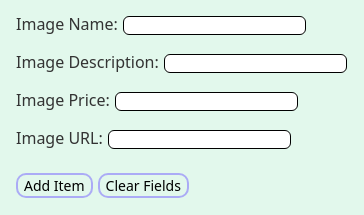
Scenario: should clear input fields when 'Clear Fields' button is clicked
The image size is (364, 215).
Type "Test Image" into the field labelled "Image Name:". click: {"x": 214, "y": 26}
box: [123,16,306,35]
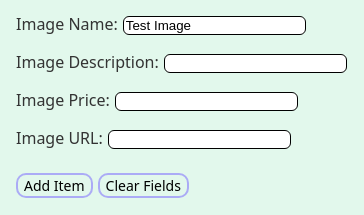
Type "This is a test image" into the field labelled "Image Description:". click: {"x": 255, "y": 64}
box: [164,54,347,73]
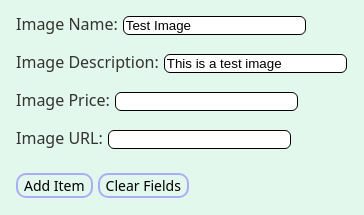
Type "10" into the field labelled "Image Price:". click: {"x": 206, "y": 102}
box: [115,92,298,111]
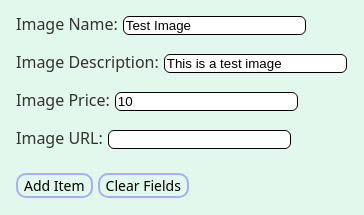
Type "http://example.com/test" into the field labelled "Image URL:". click: {"x": 199, "y": 140}
box: [108,130,291,149]
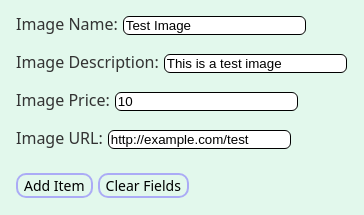
Click the button "Clear Fields". click: {"x": 143, "y": 186}
box: [98,173,189,198]
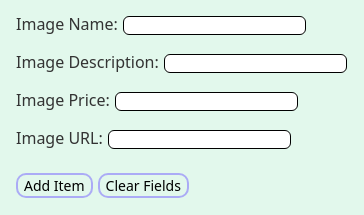
Result: the field labelled "Image Name:" is empty at [123,16,306,35]
Result: the field labelled "Image Description:" is empty at [164,54,347,73]
Result: the field labelled "Image Price:" is empty at [115,92,298,111]
